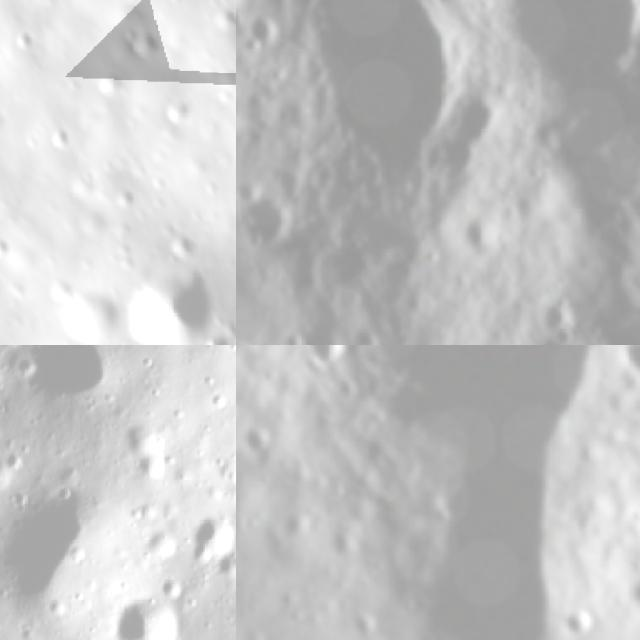crater: (247, 0, 504, 207), (430, 0, 640, 123), (0, 488, 114, 611), (127, 266, 214, 345), (0, 345, 109, 402), (236, 181, 301, 260), (107, 583, 189, 640), (444, 198, 508, 262), (55, 281, 115, 345), (118, 412, 169, 483), (522, 284, 582, 341), (236, 410, 286, 472), (186, 507, 236, 567), (125, 22, 183, 71), (294, 345, 365, 380), (603, 345, 640, 393), (560, 603, 604, 640), (340, 316, 391, 345), (199, 385, 235, 422), (419, 0, 492, 17), (6, 352, 40, 383), (0, 448, 18, 496), (216, 544, 236, 585), (201, 329, 236, 345)
